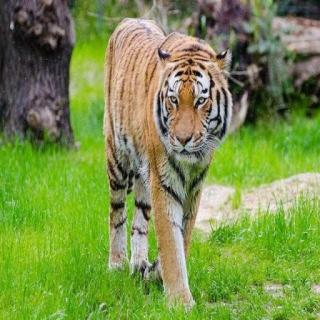Tiger: (97, 11, 237, 312)
